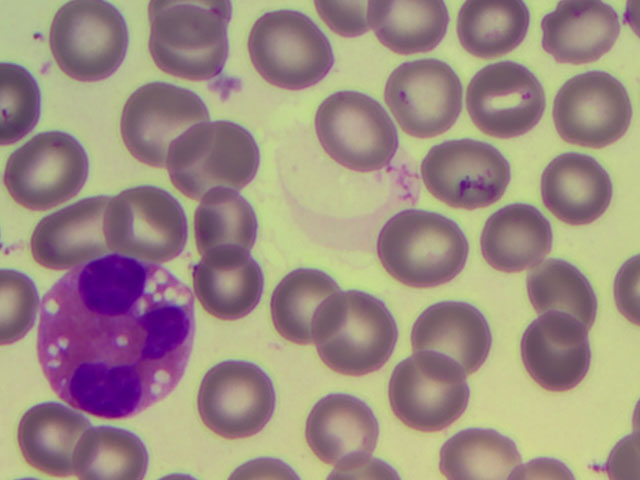RBC: (74, 398, 154, 480), (13, 398, 93, 480), (7, 127, 87, 208), (30, 188, 110, 269), (114, 182, 194, 263), (173, 120, 253, 201), (122, 86, 202, 167), (146, 12, 226, 93), (248, 9, 328, 90), (317, 90, 397, 171), (186, 187, 266, 268), (189, 249, 269, 330), (265, 264, 345, 345), (314, 293, 394, 374), (201, 356, 281, 437), (301, 391, 381, 472), (386, 353, 466, 434), (417, 297, 497, 378), (384, 209, 464, 290), (423, 138, 503, 219), (383, 57, 463, 138), (460, 58, 540, 139), (556, 64, 636, 145), (539, 143, 619, 224), (483, 192, 563, 273), (518, 250, 598, 331), (520, 306, 600, 387), (46, 1, 126, 81), (544, 1, 624, 81), (432, 427, 516, 480), (454, 1, 538, 52), (366, 1, 450, 52)
WBC: (38, 258, 190, 415)
